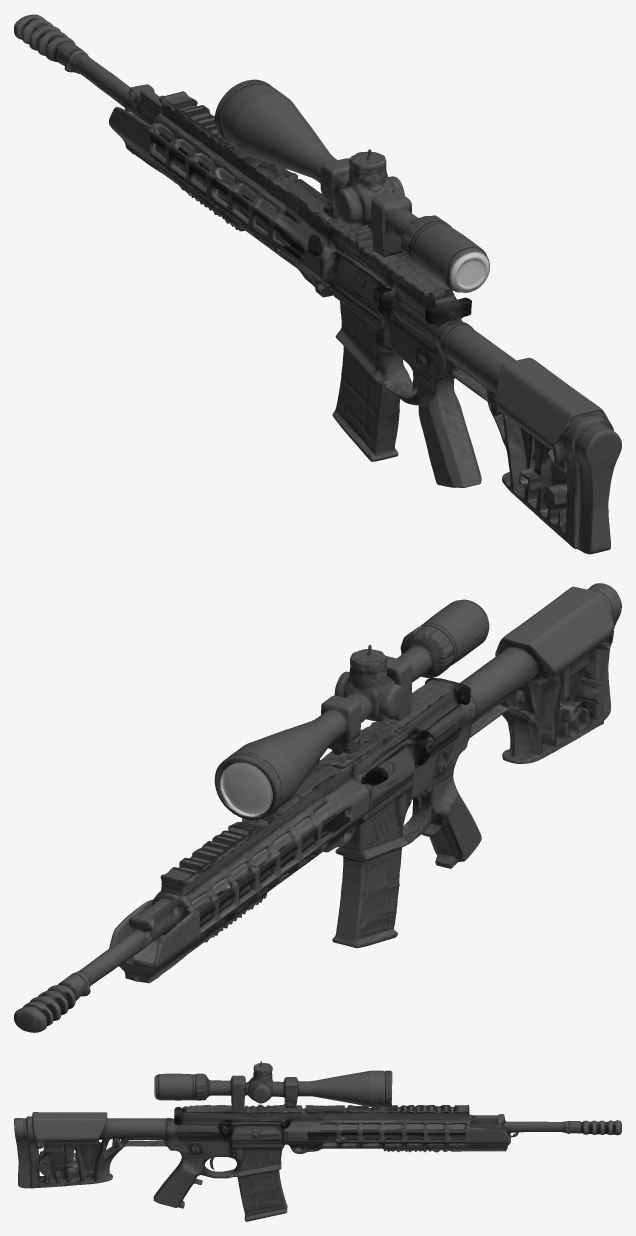
File: DMRASSAULT.glb
The picture shows the model from 3 angles, top to bottom: view 1: azimuth 30°, elevation 25°; view 2: azimuth 150°, elevation 25°; view 3: azimuth 270°, elevation 25°; orthographic projection. The views are drawn at different scales.
Visible parts, largest first — view 1: tripo_node_54e5df05-ff4a-4c21-81ee-01d7c3314322; view 2: tripo_node_54e5df05-ff4a-4c21-81ee-01d7c3314322; view 3: tripo_node_54e5df05-ff4a-4c21-81ee-01d7c3314322.
Part boxes in pixels (<box>): tripo_node_54e5df05-ff4a-4c21-81ee-01d7c3314322: <box>14,14,621,554</box>; tripo_node_54e5df05-ff4a-4c21-81ee-01d7c3314322: <box>14,583,621,1032</box>; tripo_node_54e5df05-ff4a-4c21-81ee-01d7c3314322: <box>14,1061,621,1221</box>.
Bounding box in the file's own units: 0.0797 × 0.2859 × 1.
Materials: 1 (1 with a texture image).
